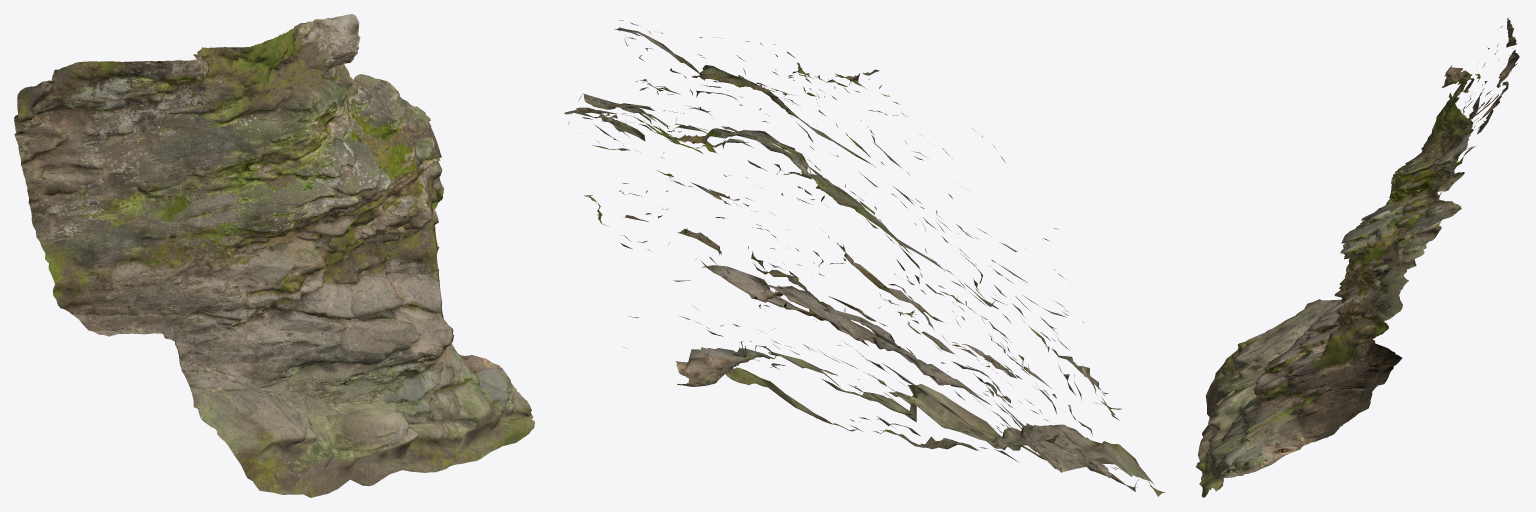
The model's file is rock_face_02.glb.
3 renders of one model, left to right at view 1: azimuth 30°, elevation 25°; view 2: azimuth 150°, elevation 25°; view 3: azimuth 270°, elevation 25°, orthographic. The views are drawn at different scales.
Parts seen in each view (by area): view 1: rock_face_02_lod0; view 2: rock_face_02_lod0; view 3: rock_face_02_lod0.
Part boxes in pixels (<box>): rock_face_02_lod0: <box>14,14,534,497</box>; rock_face_02_lod0: <box>564,20,1165,496</box>; rock_face_02_lod0: <box>1195,17,1519,497</box>.
Size of what is drawn, in the model's own units: 2.71 by 2.47 by 2.13.
1 material, 1 textured.
